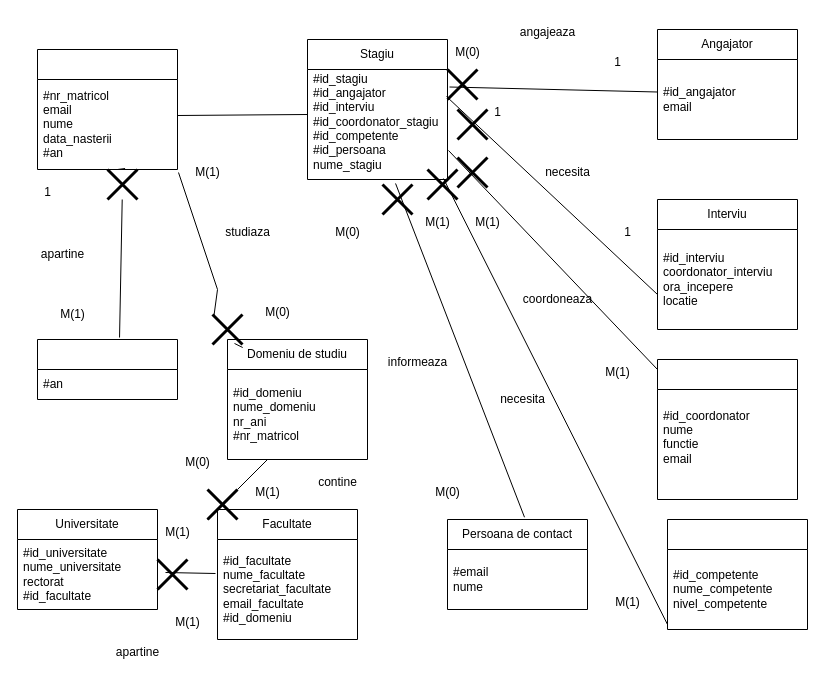
Image size: 825x684. Some labels were removed from this diagram. Here are the shapes that lost their labels. From the top down, the box of each, then its label:
(36, 48, 178, 170): Student
(36, 338, 178, 400): An de studiu
(656, 358, 798, 500): Coordonator Stagiu
(666, 518, 808, 630): Competente Necesare
